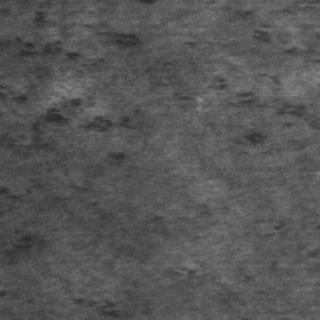rolled pit: (0, 34, 126, 240), (192, 64, 310, 148)
